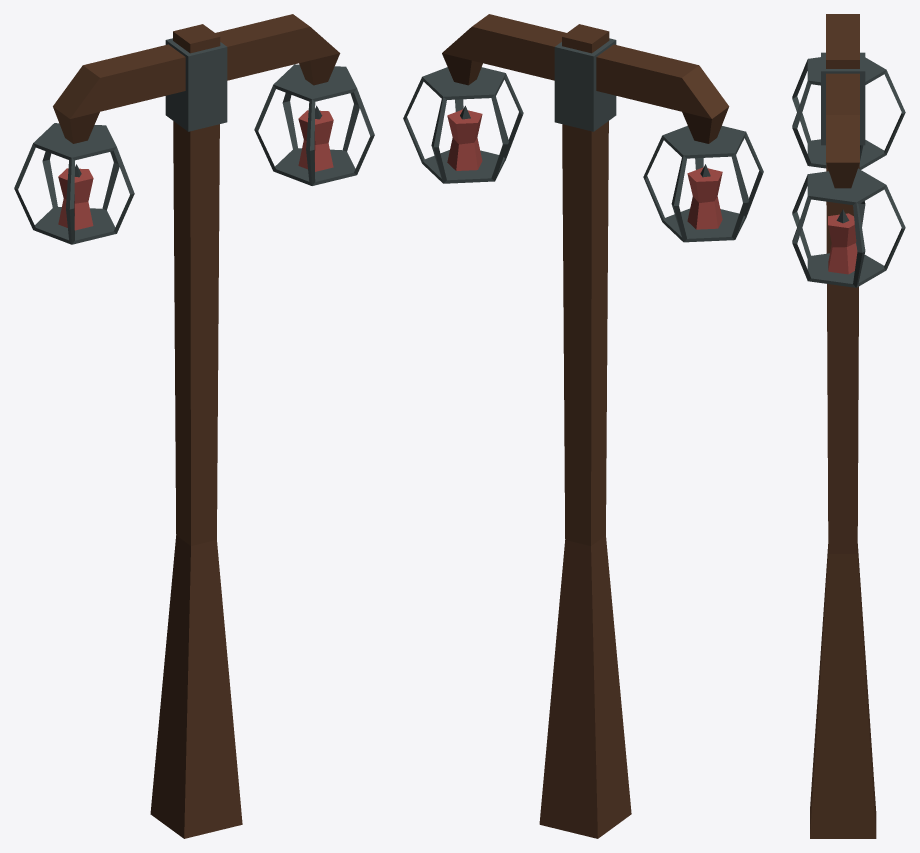
File: Lamp_6_Red.fbx
3 views of the same model, side by side, from view 1: azimuth 30°, elevation 25°; view 2: azimuth 150°, elevation 25°; view 3: azimuth 270°, elevation 25° (orthographic).
Visible parts, largest first — view 1: Lamp_6_Red; view 2: Lamp_6_Red; view 3: Lamp_6_Red.
Part boxes in pixels (bbox=[...]): Lamp_6_Red: bbox=[14, 14, 374, 838]; Lamp_6_Red: bbox=[403, 14, 763, 838]; Lamp_6_Red: bbox=[792, 14, 905, 838].
Bounding box in the file's own units: 115 × 250 × 33.27.
